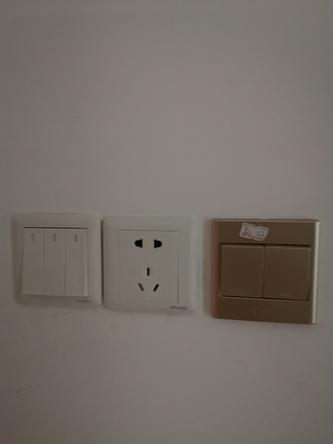switch: (261, 241, 312, 304), (219, 240, 267, 303), (18, 222, 46, 297), (65, 225, 92, 299), (41, 226, 67, 300)
